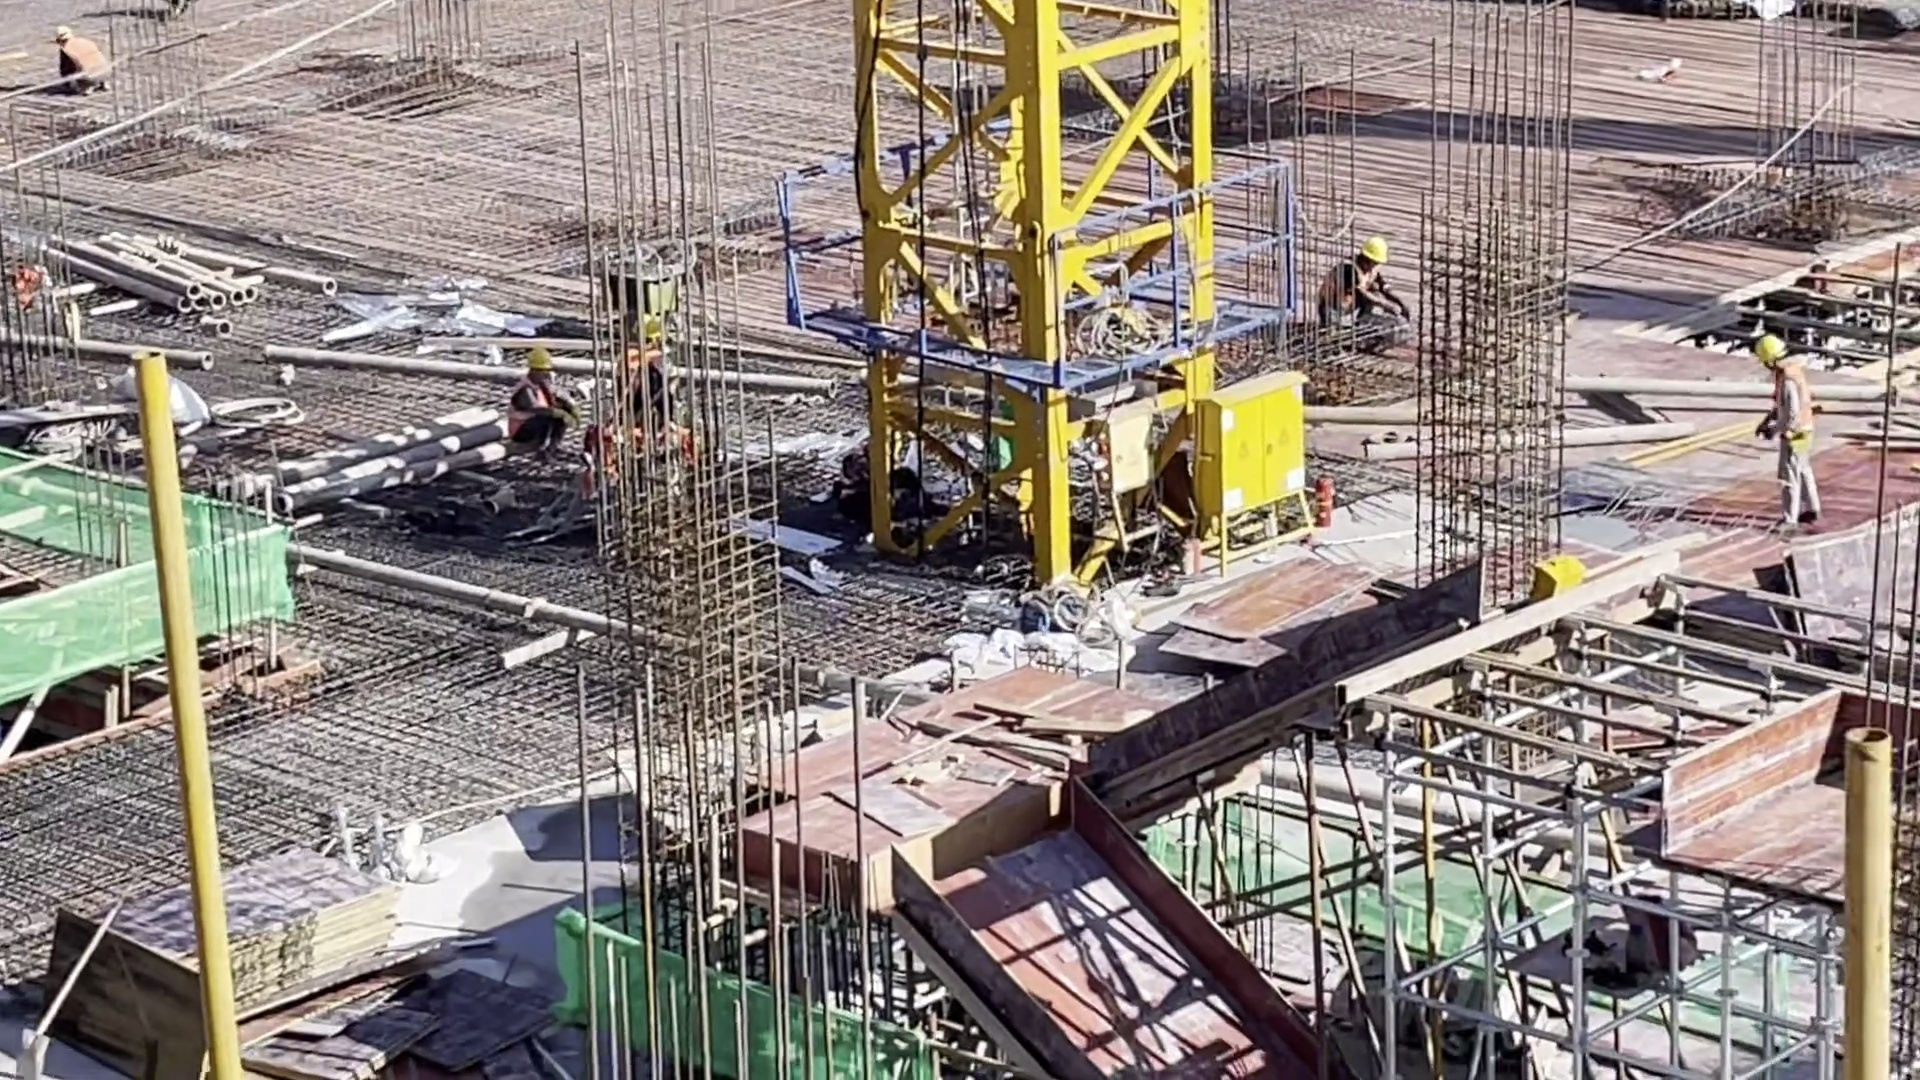helmet: (1758, 334, 1792, 371), (1356, 234, 1390, 268), (527, 348, 558, 374), (55, 25, 74, 41)
person: (1751, 330, 1824, 529), (503, 345, 583, 466), (1313, 233, 1409, 330), (54, 24, 109, 96)
vest: (1315, 263, 1376, 325), (1769, 366, 1817, 442), (508, 382, 550, 448), (63, 37, 109, 78)
